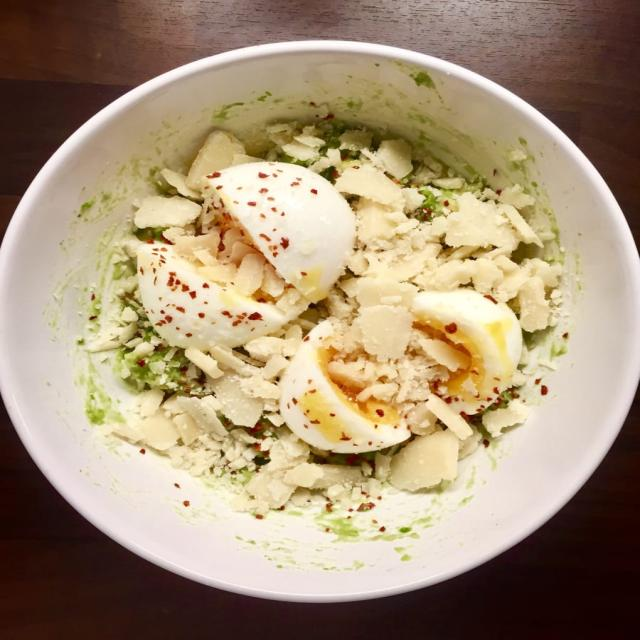huevos: (206, 158, 361, 302), (280, 322, 412, 459)
